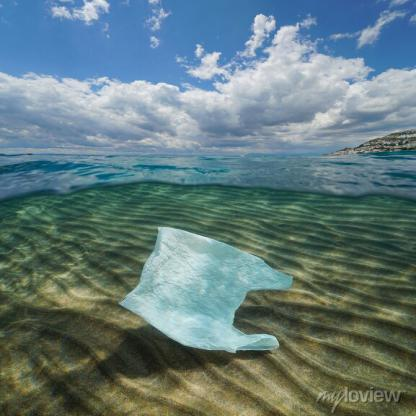plastic-bag: (123, 225, 292, 356)
